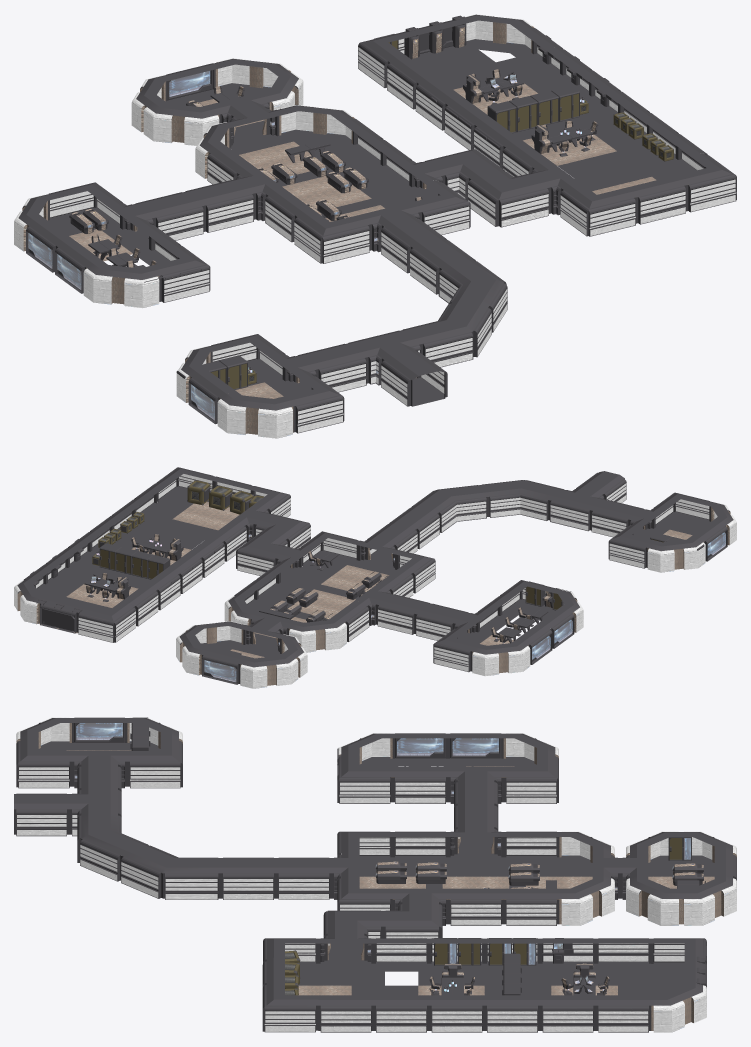
3 renders of one model, top to bottom at view 1: azimuth 30°, elevation 25°; view 2: azimuth 150°, elevation 25°; view 3: azimuth 270°, elevation 25°, orthographic. The views are drawn at different scales.
Parts seen in each view (by area): view 1: HallCorner2, WallCorner11, WallCorner13, HallAngle2_Floor_MAT_0, WallAngle8, WallAngle4, HallAngle1_Floor_MAT_0, WallAngle5, Hall8_Floor_MAT_0, Hall5, WallCorner17, WallAngle7 (+57 smaller); view 2: WallCorner14, HallAngle2_Floor_MAT_0, WallAngle1, WallAngle9, HallAngle1_Floor_MAT_0, HallCorner1, WallAngle6, Hall5, WallCorner16, HallT1_Floor_MAT_0, Hall6, WallCorner12 (+65 smaller); view 3: HallAngle1_Floor_MAT_0, HallAngle2_Floor_MAT_0, WallCorner15, WallCorner17, Hall1, WallCorner16, WallAngle2, WallAngle3, WallAngle5, WallAngle7, WallStraight47, WallStraight40 (+63 smaller).
Boxes of the visible parts, x1=… form: HallCorner2: x1=468, y1=169, x2=549, y2=227; WallCorner11: x1=294, y1=209, x2=369, y2=263; WallCorner13: x1=560, y1=182, x2=635, y2=236; HallAngle2_Floor_MAT_0: x1=402, y1=300, x2=491, y2=367; WallAngle8: x1=83, y1=261, x2=159, y2=307; WallAngle4: x1=143, y1=99, x2=219, y2=145; HallAngle1_Floor_MAT_0: x1=438, y1=259, x2=507, y2=332; WallAngle5: x1=279, y1=105, x2=354, y2=147; Hall8_Floor_MAT_0: x1=381, y1=350, x2=447, y2=406; Hall5: x1=185, y1=179, x2=253, y2=232; WallCorner17: x1=150, y1=243, x2=210, y2=302; WallAngle7: x1=462, y1=14, x2=534, y2=57; WallCorner14: x1=78, y1=601, x2=135, y2=642; HallAngle2_Floor_MAT_0: x1=482, y1=480, x2=563, y2=520; WallAngle1: x1=240, y1=652, x2=298, y2=688; WallAngle9: x1=472, y1=640, x2=530, y2=675; HallAngle1_Floor_MAT_0: x1=411, y1=485, x2=487, y2=532; HallCorner1: x1=236, y1=532, x2=291, y2=575; WallAngle6: x1=289, y1=617, x2=346, y2=652; Hall5: x1=377, y1=594, x2=429, y2=634; WallCorner16: x1=433, y1=627, x2=478, y2=672; HallT1_Floor_MAT_0: x1=550, y1=487, x2=605, y2=531; Hall6: x1=416, y1=603, x2=468, y2=640; WallCorner12: x1=301, y1=531, x2=358, y2=569; HallAngle1_Floor_MAT_0: x1=121, y1=844, x2=220, y2=899; HallAngle2_Floor_MAT_0: x1=77, y1=811, x2=148, y2=881; WallCorner15: x1=262, y1=981, x2=318, y2=1032; WallCorner17: x1=337, y1=752, x2=392, y2=803; Hall1: x1=276, y1=857, x2=331, y2=899; WallCorner16: x1=504, y1=752, x2=558, y2=803; WallAngle2: x1=681, y1=874, x2=736, y2=925; WallAngle3: x1=626, y1=874, x2=681, y2=925; WallAngle5: x1=559, y1=874, x2=614, y2=925; WallAngle7: x1=651, y1=981, x2=706, y2=1032; WallStraight47: x1=392, y1=766, x2=448, y2=803; WallStraight40: x1=373, y1=995, x2=429, y2=1032.
Size of the model in its own units: 62.04 by 2.84 by 65.12.
Materials: 6 (4 with a texture image).
